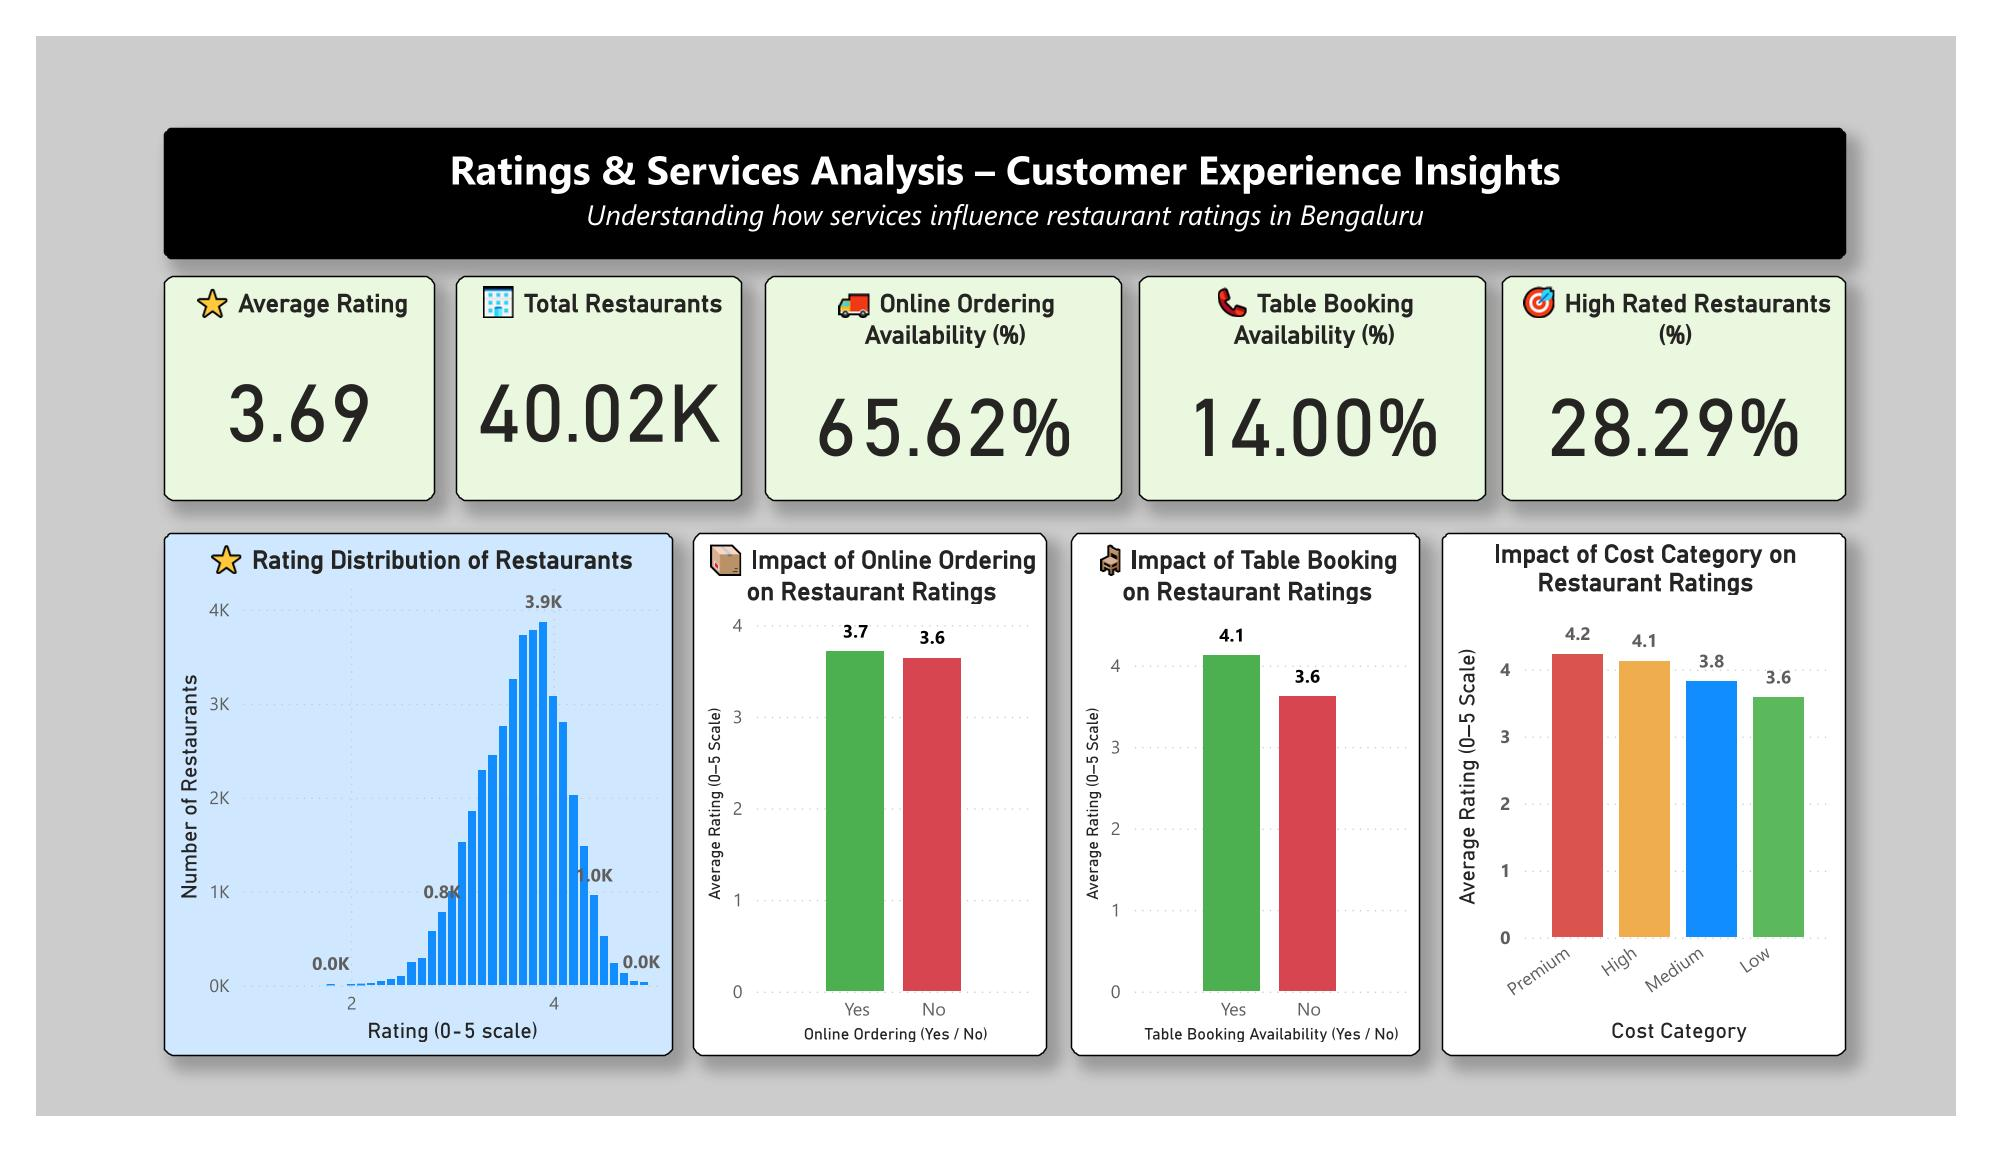

This screenshot's page, from the dashboard's own definition file:
{"tool":"powerbi","page":{"name":"Ratings & Services","canvas":[1280,720],"ordinal":2},"visuals":[{"type":"textbox","box":[85.2,60.7,1122,88],"z":0},{"type":"card","title":"⭐ Average Rating","fields":{"Values":["Avg(03_zomato_clean.rate)"]},"box":[85.2,159.7,181,150],"z":1000},{"type":"card","title":"🏢 Total Restaurants","fields":{"Values":["CountNonNull(03_zomato_clean.name)"]},"box":[280.2,159.7,191,150],"z":2000},{"type":"card","title":"🚚 Online Ordering Availability (%)","fields":{"Values":["03_zomato_clean.Online Delivery %"]},"box":[486.2,159.7,238,150],"z":3000},{"type":"card","title":"📞 Table Booking Availability (%)","fields":{"Values":["03_zomato_clean.Table Booking %"]},"box":[735.2,159.7,232,150],"z":4000},{"type":"columnChart","title":"⭐ Rating Distribution of Restaurants","fields":{"Category":["03_zomato_clean.rate"],"Y":["CountNonNull(03_zomato_clean.name)"]},"box":[85.2,330.7,340,349],"z":5000},{"type":"card","title":"🎯 High Rated Restaurants (%)","fields":{"Values":["03_zomato_clean.High Rating %"]},"box":[977.2,159.7,230,150],"z":6000},{"type":"columnChart","title":"📦 Impact of Online Ordering on Restaurant Ratings","fields":{"Category":["03_zomato_clean.online_order"],"Y":["Avg(03_zomato_clean.rate)"]},"box":[438.2,330.7,236,349],"z":7000},{"type":"clusteredColumnChart","title":"🪑 Impact of Table Booking on Restaurant Ratings","fields":{"Category":["03_zomato_clean.book_table"],"Y":["Avg(03_zomato_clean.rate)"]},"box":[690.2,330.7,233,349],"z":8000},{"type":"columnChart","title":"Impact of Cost Category on Restaurant Ratings","fields":{"Category":["03_zomato_clean.cost_category"],"Y":["Avg(03_zomato_clean.rate)"]},"box":[937.2,330.7,270,349],"z":9000}]}

Visuals, with their boxes in screenshot pixels (x1, y1, x2, y2), scaled from the page's 1280x720 canvas onto the 1992x1152 screenshot:
textbox: {"x1": 133, "y1": 97, "x2": 1879, "y2": 238}
"⭐ Average Rating" card: {"x1": 133, "y1": 256, "x2": 414, "y2": 496}
"🏢 Total Restaurants" card: {"x1": 436, "y1": 256, "x2": 733, "y2": 496}
"🚚 Online Ordering Availability (%)" card: {"x1": 757, "y1": 256, "x2": 1127, "y2": 496}
"📞 Table Booking Availability (%)" card: {"x1": 1144, "y1": 256, "x2": 1505, "y2": 496}
"⭐ Rating Distribution of Restaurants" columnChart: {"x1": 133, "y1": 529, "x2": 662, "y2": 1088}
"🎯 High Rated Restaurants (%)" card: {"x1": 1521, "y1": 256, "x2": 1879, "y2": 496}
"📦 Impact of Online Ordering on Restaurant Ratings" columnChart: {"x1": 682, "y1": 529, "x2": 1049, "y2": 1088}
"🪑 Impact of Table Booking on Restaurant Ratings" clusteredColumnChart: {"x1": 1074, "y1": 529, "x2": 1437, "y2": 1088}
"Impact of Cost Category on Restaurant Ratings" columnChart: {"x1": 1459, "y1": 529, "x2": 1879, "y2": 1088}
